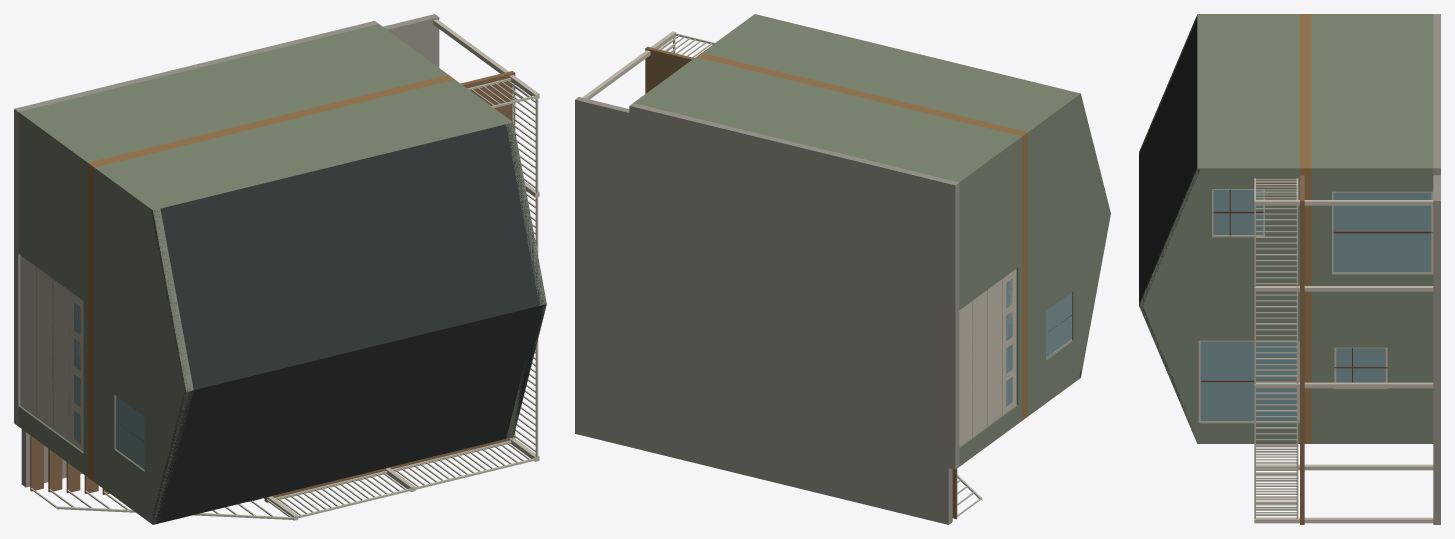
Rendered from adu-option-f.obj.
The picture shows the model from 3 angles, left to right: view 1: azimuth 30°, elevation 25°; view 2: azimuth 150°, elevation 25°; view 3: azimuth 270°, elevation 25°; orthographic projection. The views are drawn at different scales.
Visible parts, largest first — view 1: North roof plane flush north-west, South roof plane flush west, L1 north wall end, L2 north wall end, L2 west wall end, L1 west wall end, Garage overhead door, west gable wall, Level 2 floor assembly 20x24, Level 1 slab 20x24, L2 west wall pier 0, east gable wall (+14 smaller); view 2: Level 1 slab 20x24, L1 north wall end, L2 north wall end, Ground east patio 4ft, Ground south covered patio, L2 west wall end, South stair ground landing, L1 west wall end, Garage overhead door, west gable wall, Level 2 floor assembly 20x24, L2 west wall pier 0 (+6 smaller); view 3: L1 north wall end, L2 north wall end, L2 east wall pier 1, North roof plane flush north-west, L1 east wall pier 1, east gable wall, L1 east 6ft slider, L2 east 6ft slider, L1 east wall pier 0, Level 2 floor assembly 20x24, Ground east patio 4ft, L2 east dining window (+21 smaller).
Part boxes in pixels (<box>): North roof plane flush north-west: <box>151,122,546,391</box>; South roof plane flush west: <box>152,304,546,524</box>; L1 north wall end: <box>18,24,447,170</box>; L2 north wall end: <box>94,79,513,217</box>; L2 west wall end: <box>94,175,152,422</box>; L1 west wall end: <box>18,120,87,303</box>; Garage overhead door: <box>20,255,83,451</box>; west gable wall: <box>153,209,193,524</box>; Level 2 floor assembly 20x24: <box>88,75,454,481</box>; Level 1 slab 20x24: <box>14,21,378,425</box>; L2 west wall pier 0: <box>94,435,152,516</box>; east gable wall: <box>506,122,546,438</box>; Level 1 slab 20x24: <box>629,103,959,469</box>; L1 north wall end: <box>633,57,1021,189</box>; L2 north wall end: <box>702,14,1080,138</box>; Ground east patio 4ft: <box>575,97,629,389</box>; Ground south covered patio: <box>575,377,799,488</box>; L2 west wall end: <box>1028,101,1080,323</box>; South stair ground landing: <box>799,431,952,524</box>; L1 west wall end: <box>959,144,1021,309</box>; Garage overhead door: <box>959,269,1016,446</box>; west gable wall: <box>1081,95,1110,375</box>; Level 2 floor assembly 20x24: <box>696,53,1027,420</box>; L2 west wall pier 0: <box>1028,335,1080,409</box>; L1 north wall end: <box>1311,14,1433,175</box>; L2 north wall end: <box>1197,14,1299,175</box>; L2 east wall pier 1: <box>1197,236,1299,340</box>; North roof plane flush north-west: <box>1139,16,1199,305</box>; L1 east wall pier 1: <box>1311,274,1433,347</box>; east gable wall: <box>1139,168,1197,442</box>; L1 east 6ft slider: <box>1333,192,1431,272</box>; L2 east 6ft slider: <box>1200,341,1296,421</box>; L1 east wall pier 0: <box>1311,388,1433,437</box>; Level 2 floor assembly 20x24: <box>1300,14,1311,443</box>; Ground east patio 4ft: <box>1433,175,1440,469</box>; L2 east dining window: <box>1213,190,1263,234</box>.
Size of the model in its own units: 28 by 24 by 19.83.
